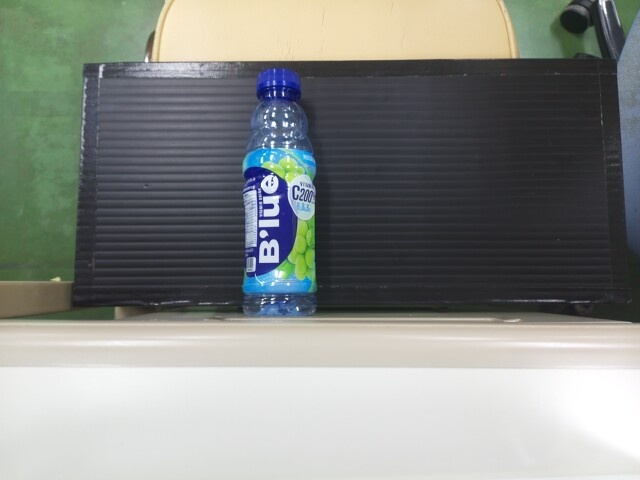plastic_bottle: (241, 57, 316, 308)
